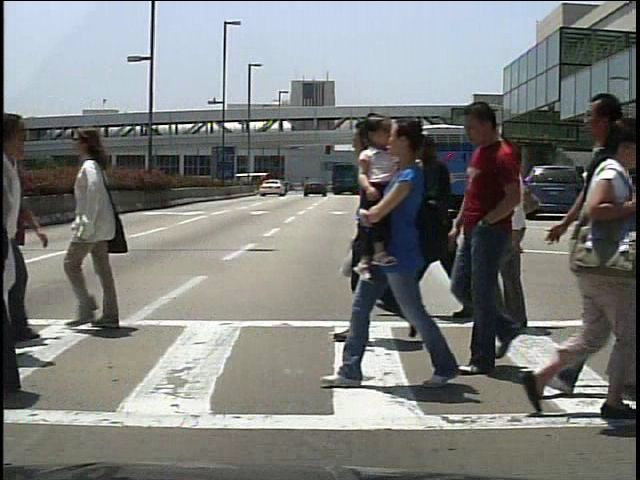person: (332, 119, 437, 347), (461, 101, 538, 378), (59, 120, 152, 344), (397, 130, 470, 322), (484, 139, 554, 336), (582, 168, 602, 218), (492, 164, 510, 216)
